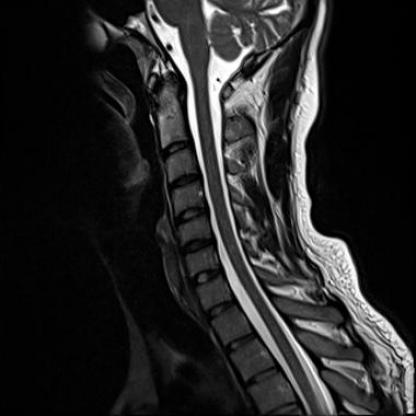Degenerative Disc Diseaserotation: (180, 237, 216, 253)
Disc Bulgerotation: (180, 237, 216, 253)
